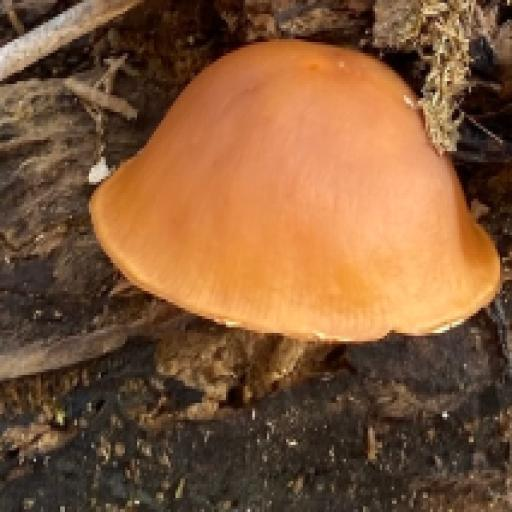mushroom: (87, 30, 503, 372)
